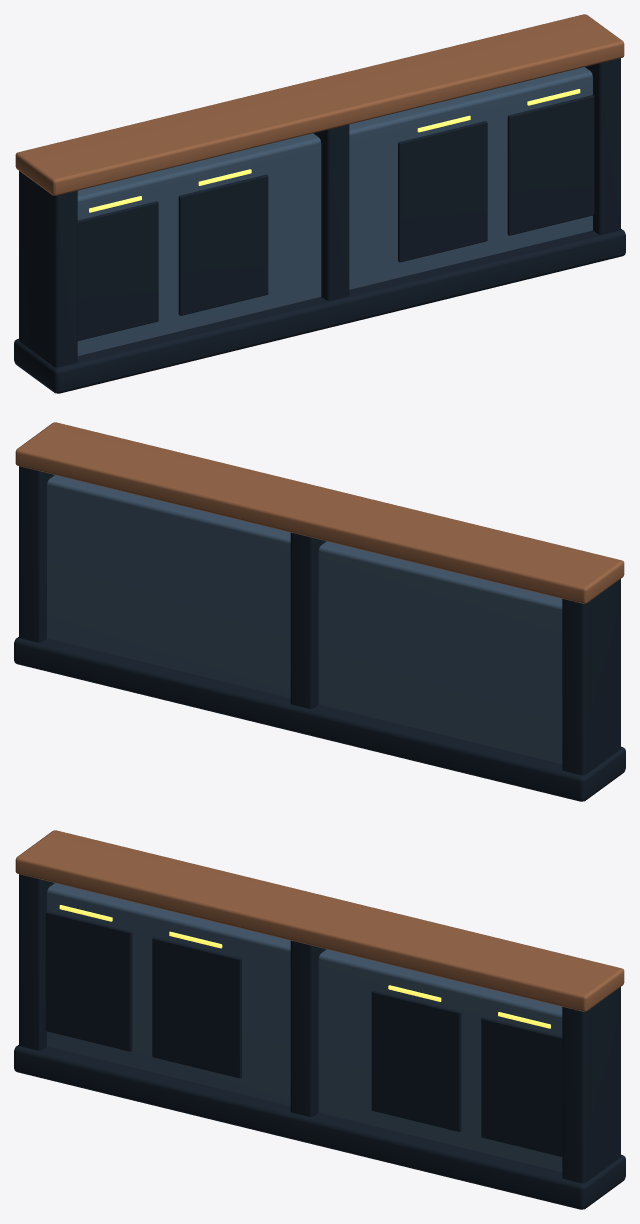
Rendered from foundry_perimeter_wall.fbx.
3 renders of one model, top to bottom at view 1: azimuth 30°, elevation 25°; view 2: azimuth 150°, elevation 25°; view 3: azimuth 330°, elevation 25°, orthographic.
Visible parts, largest first — view 1: foundry_perimeter_wall_Geometry; view 2: foundry_perimeter_wall_Geometry; view 3: foundry_perimeter_wall_Geometry.
Boxes of the visible parts, x1,y1,x2,y2 form: foundry_perimeter_wall_Geometry: [14, 14, 625, 393]; foundry_perimeter_wall_Geometry: [14, 422, 625, 801]; foundry_perimeter_wall_Geometry: [14, 830, 625, 1209].
Bounding box in the file's own units: 6 × 2.15 × 0.8.
